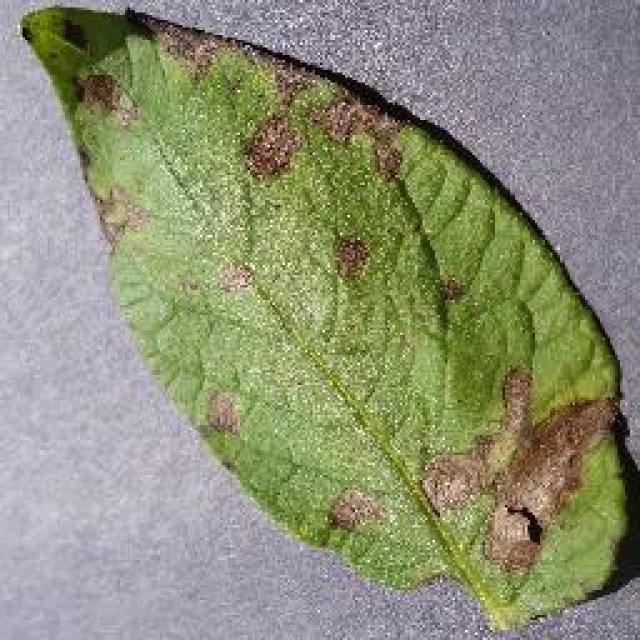early_blight: (15, 0, 637, 635)
